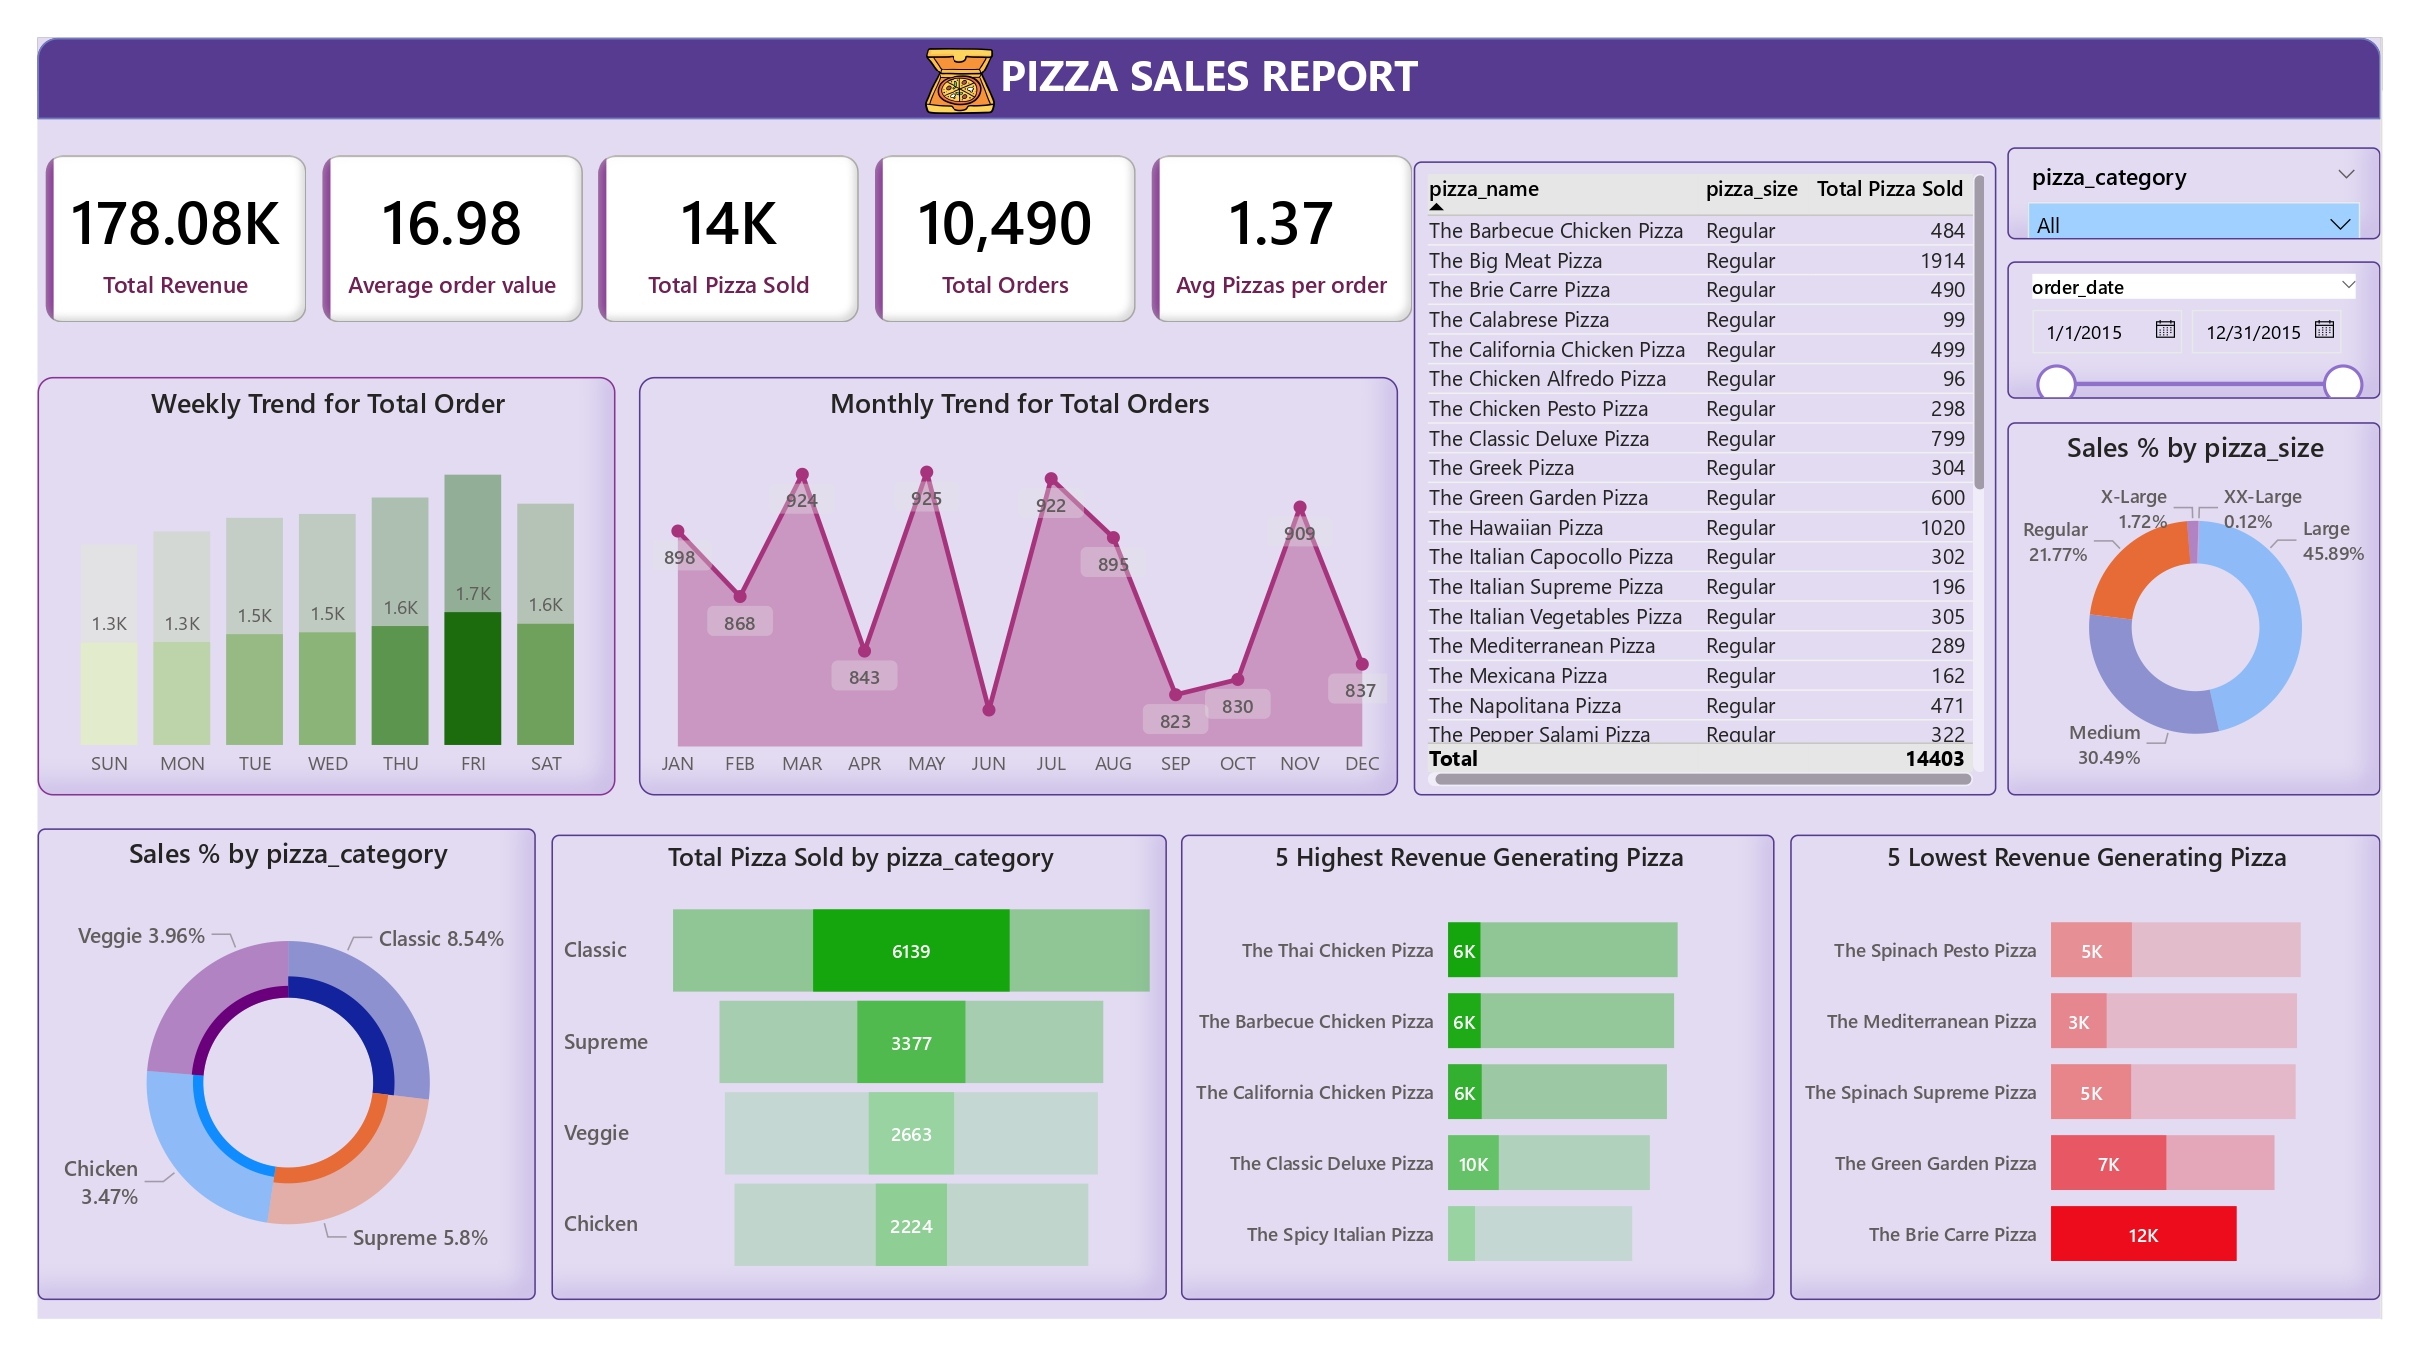

The page's visual inventory and layout, read from the dashboard file:
{"tool":"powerbi","page":{"name":"Page 1","canvas":[1500,820],"ordinal":0},"visuals":[{"type":"cardVisual","fields":{"Data":["pizza_sales.Total Revenue","pizza_sales.Average order value","pizza_sales.Total Pizza Sold","pizza_sales.Total Orders","pizza_sales.Avg Pizzas per order"]},"box":[0,70,888,117],"z":0},{"type":"shape","box":[0,0,1500,52],"z":1000},{"type":"textbox","box":[0,0,1500,48],"z":2000},{"type":"columnChart","title":"Weekly Trend for Total Order","fields":{"Category":["pizza_sales.Order Day"],"Y":["pizza_sales.Total Orders"]},"box":[0,217,370,268],"z":3000},{"type":"stackedAreaChart","title":"Monthly Trend for Total Orders ","fields":{"Category":["pizza_sales.Order Month"],"Y":["pizza_sales.Total Orders"]},"box":[385,217,486,268],"z":4000},{"type":"donutChart","title":"Sales % by pizza_category","fields":{"Category":["pizza_sales.pizza_category"],"Y":["pizza_sales.Total Revenue"]},"box":[0,506,319,302],"z":4001},{"type":"donutChart","title":"Sales % by pizza_size","fields":{"Y":["pizza_sales.Total Revenue"],"Category":["pizza_sales.pizza_size"]},"box":[1261,246,239,239],"z":4002},{"type":"funnel","fields":{"Category":["pizza_sales.pizza_category"],"Y":["pizza_sales.Total Pizza Sold"]},"box":[329,510,394,298],"z":4003},{"type":"tableEx","fields":{"Values":["pizza_sales.pizza_name","pizza_sales.pizza_size","pizza_sales.Total Pizza Sold"]},"box":[881,79,373,406],"z":4004},{"type":"slicer","fields":{"Values":["pizza_sales.pizza_category"]},"box":[1261,70,239,59],"z":4005},{"type":"slicer","fields":{"Values":["pizza_sales.order_date"]},"box":[1261,143,239,88],"z":4007},{"type":"barChart","title":"5 Highest Revenue Generating Pizza","fields":{"Category":["pizza_sales.pizza_name"],"Y":["pizza_sales.Total Revenue"]},"box":[732,510,380,298],"z":4008},{"type":"barChart","title":"5 Lowest Revenue Generating Pizza","fields":{"Category":["pizza_sales.pizza_name"],"Y":["pizza_sales.Total Revenue"]},"box":[1122,510,378,298],"z":4009},{"type":"image","box":[552,0,76,55],"z":4010}]}

Visuals, with their boxes on the page's 1500x820 design canvas (x1, y1, x2, y2). These are canvas units, not pixel positions in the 2420x1357 screenshot, which may show the page scaled, cropped or inside an application window:
cardVisual - pizza_sales.Total Revenue x pizza_sales.Average order value: bbox(0, 70, 888, 187)
shape: bbox(0, 0, 1500, 52)
textbox: bbox(0, 0, 1500, 48)
"Weekly Trend for Total Order" columnChart: bbox(0, 217, 370, 485)
"Monthly Trend for Total Orders " stackedAreaChart: bbox(385, 217, 871, 485)
"Sales % by pizza_category" donutChart: bbox(0, 506, 319, 808)
"Sales % by pizza_size" donutChart: bbox(1261, 246, 1500, 485)
funnel - pizza_sales.pizza_category x pizza_sales.Total Pizza Sold: bbox(329, 510, 723, 808)
tableEx - pizza_sales.pizza_name x pizza_sales.pizza_size: bbox(881, 79, 1254, 485)
slicer - pizza_sales.pizza_category: bbox(1261, 70, 1500, 129)
slicer - pizza_sales.order_date: bbox(1261, 143, 1500, 231)
"5 Highest Revenue Generating Pizza" barChart: bbox(732, 510, 1112, 808)
"5 Lowest Revenue Generating Pizza" barChart: bbox(1122, 510, 1500, 808)
image: bbox(552, 0, 628, 55)
